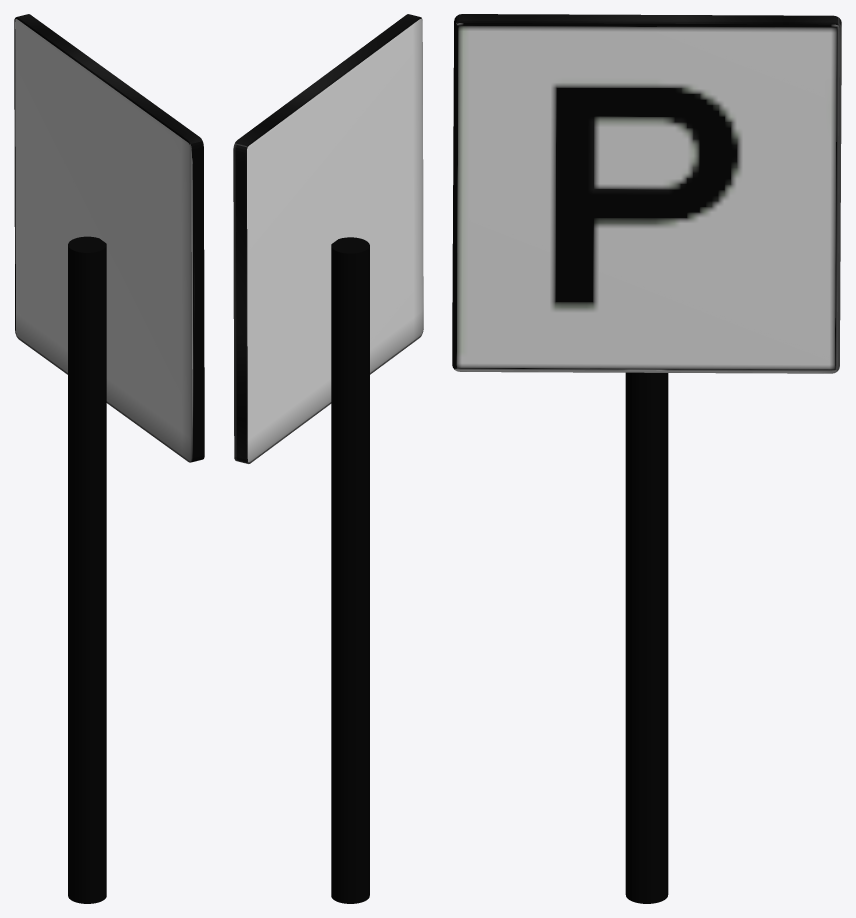
Rendered from Sign_Park_Black.fbx.
3 renders of one model, left to right at view 1: azimuth 30°, elevation 25°; view 2: azimuth 150°, elevation 25°; view 3: azimuth 270°, elevation 25°, orthographic. The views are drawn at different scales.
Parts seen in each view (by area): view 1: Sign_Park_Black, Pole_Park_Black; view 2: Sign_Park_Black, Pole_Park_Black; view 3: Sign_Park_Black, Pole_Park_Black.
Boxes of the visible parts, <box> form: Sign_Park_Black: <box>14,14,204,462</box>; Pole_Park_Black: <box>68,236,106,903</box>; Sign_Park_Black: <box>233,14,423,463</box>; Pole_Park_Black: <box>331,237,369,903</box>; Sign_Park_Black: <box>452,14,841,373</box>; Pole_Park_Black: <box>625,372,668,903</box>.
Bounding box in the file's own units: 6.49 × 111 × 44.22.
